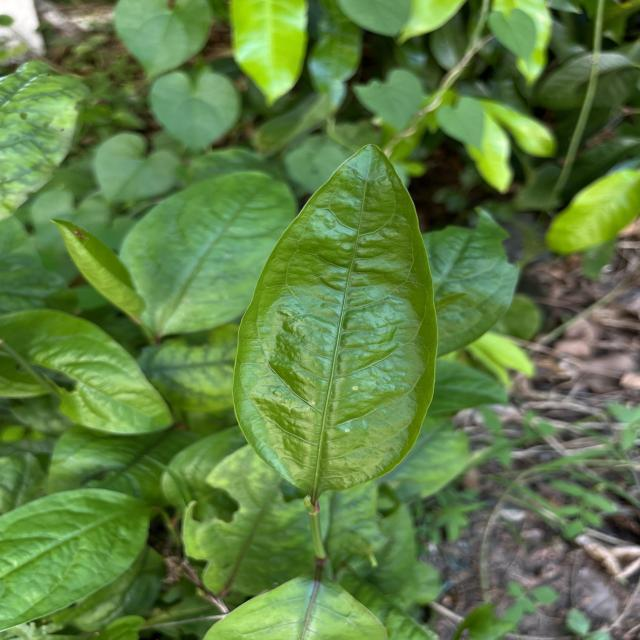Plumbago indica: (225, 136, 444, 502), (112, 162, 298, 339), (0, 482, 156, 634), (7, 304, 179, 434)
